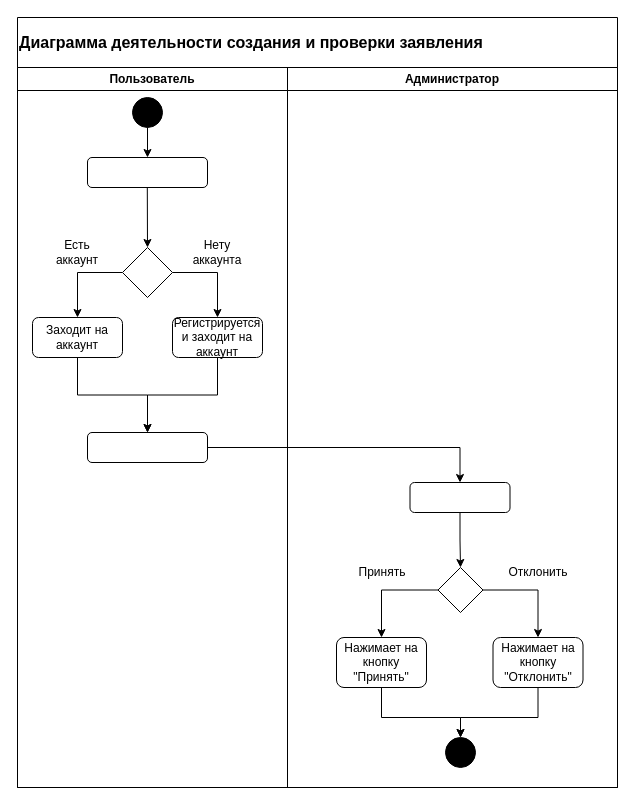
Some shapes in this 635 by 805 pixel diagram are drawn without their labels. Here are the shapes that lost their labels. From the top down, the centre of each, then its label:
At point 147,172: "Заходит на сайт".
At point 147,447: "Создает заявление".
At point 459,497: "Просмотр заявлений".
